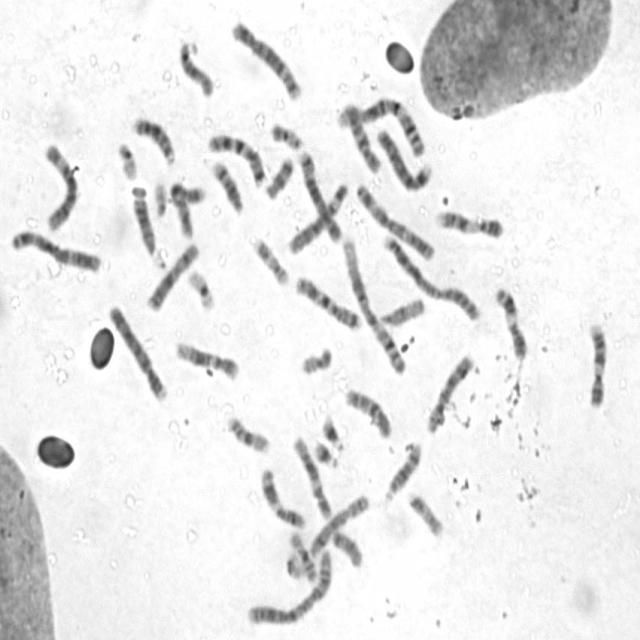A1: (338, 232, 408, 378), (335, 93, 428, 158)
A2: (379, 228, 484, 323), (243, 544, 335, 627)
A3: (353, 176, 438, 262), (6, 223, 103, 274)
B4: (104, 298, 168, 402), (372, 123, 434, 193)
B5: (228, 15, 304, 102), (294, 145, 344, 244)
C10: (340, 99, 383, 174), (342, 382, 394, 440)
C11: (257, 462, 309, 531), (492, 281, 529, 361)
C12: (289, 431, 333, 520), (172, 335, 242, 381)
C6: (284, 178, 350, 255), (39, 137, 81, 233)
C7: (293, 271, 364, 333), (204, 129, 267, 188)
C8: (423, 348, 477, 435), (307, 489, 371, 558)
C9: (432, 203, 505, 240), (584, 317, 609, 410)
D13: (129, 111, 177, 166), (129, 191, 158, 257)
D14: (382, 436, 424, 503), (208, 155, 245, 215)
D15: (174, 33, 216, 99), (374, 292, 426, 328)
E16: (221, 409, 271, 456), (286, 526, 321, 584)
E17: (249, 231, 290, 288), (404, 486, 445, 539)
E18: (328, 524, 365, 569), (262, 151, 295, 200)
F19: (184, 264, 217, 312), (280, 550, 306, 580)
F20: (296, 341, 334, 376), (267, 117, 305, 151)
G21: (318, 408, 347, 453), (309, 435, 340, 470)
G22: (114, 136, 139, 182), (149, 175, 168, 218)
X: (143, 237, 201, 313)
